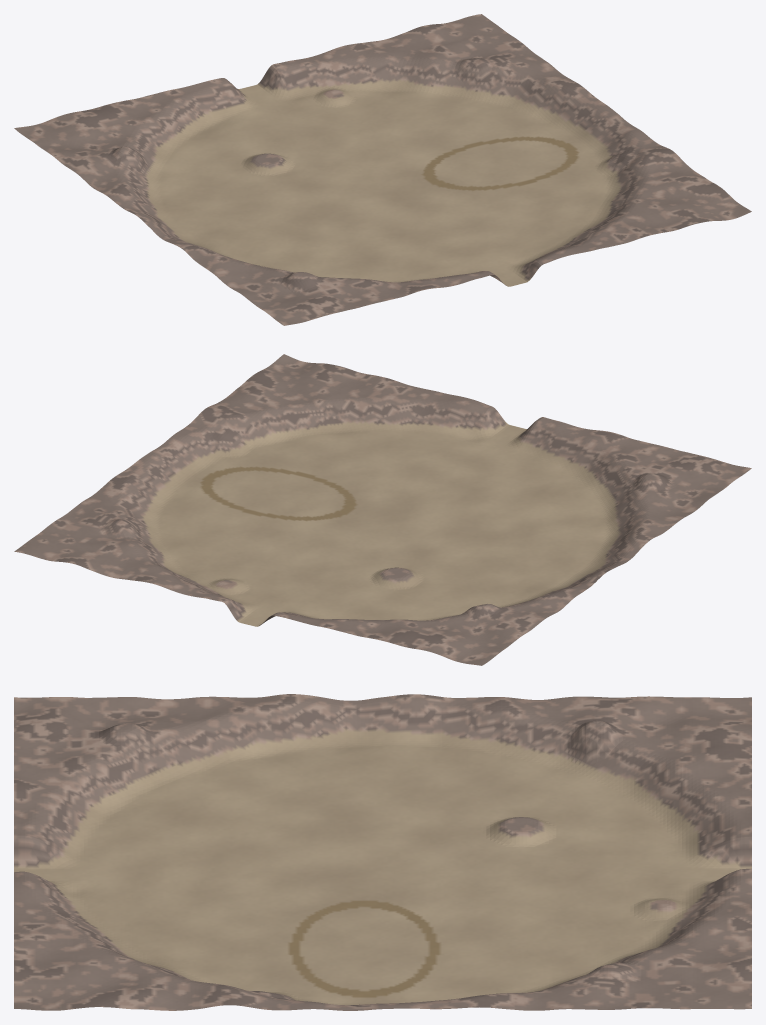
Rendered from terrain.glb.
The picture shows the model from 3 angles, top to bottom: view 1: azimuth 30°, elevation 25°; view 2: azimuth 150°, elevation 25°; view 3: azimuth 270°, elevation 25°; orthographic projection. The views are drawn at different scales.
Parts seen in each view (by area): view 1: Terrain_1_2, Terrain_2_1, Terrain_0_2, Terrain_2_0, Terrain_-2_2, Terrain_-1_2, Terrain_2_-1, Terrain_-3_1, Terrain_2_2, Terrain_-2_1, Terrain_1_1, Terrain_2_-3 (+46 smaller); view 2: Terrain_1_-3, Terrain_2_-2, Terrain_0_-3, Terrain_2_-1, Terrain_-2_-3, Terrain_-1_-3, Terrain_2_0, Terrain_-3_-3, Terrain_2_-3, Terrain_1_-2, Terrain_-3_-2, Terrain_-2_-2 (+46 smaller); view 3: Terrain_-3_1, Terrain_-3_-2, Terrain_-3_-1, Terrain_-3_0, Terrain_-2_2, Terrain_-2_-3, Terrain_-1_-3, Terrain_-1_2, Terrain_-3_2, Terrain_-1_1, Terrain_-2_-2, Terrain_-3_-3 (+48 smaller).
Part boxes in pixels (box(x1,y1,x2,y2)): Terrain_1_2: box(329, 42, 443, 106); Terrain_2_1: box(445, 55, 560, 119); Terrain_0_2: box(256, 59, 370, 123); Terrain_2_0: box(486, 83, 602, 149); Terrain_-2_2: box(109, 95, 226, 156); Terrain_-1_2: box(184, 86, 297, 141); Terrain_2_-1: box(529, 119, 644, 180); Terrain_-3_1: box(78, 146, 195, 199); Terrain_2_2: box(402, 23, 517, 83); Terrain_-2_1: box(152, 142, 268, 190); Terrain_1_1: box(372, 82, 486, 137); Terrain_2_-3: box(613, 176, 729, 227); Terrain_1_-3: box(322, 382, 436, 446); Terrain_2_-2: box(205, 392, 320, 459); Terrain_0_-3: box(394, 400, 509, 463); Terrain_2_-1: box(163, 426, 279, 489); Terrain_-2_-3: box(539, 435, 656, 496); Terrain_-1_-3: box(468, 425, 581, 481); Terrain_2_0: box(121, 459, 236, 520); Terrain_-3_-3: box(613, 453, 729, 504); Terrain_2_-3: box(248, 366, 362, 423); Terrain_1_-2: box(279, 423, 393, 477); Terrain_-3_-2: box(570, 488, 687, 540); Terrain_-2_-2: box(498, 482, 613, 530); Terrain_-3_1: box(497, 704, 615, 777); Terrain_-3_-2: box(150, 704, 268, 778); Terrain_-3_-1: box(268, 703, 382, 777); Terrain_-3_0: box(383, 704, 497, 778); Terrain_-2_2: box(612, 752, 729, 828); Terrain_-2_-3: box(36, 753, 153, 826); Terrain_-1_-3: box(36, 806, 153, 874); Terrain_-1_2: box(612, 806, 729, 874); Terrain_-3_2: box(612, 704, 729, 771); Terrain_-1_1: box(497, 819, 614, 874); Terrain_-2_-2: box(151, 771, 268, 826); Terrain_-3_-3: box(36, 706, 153, 772).
Size of the model in its own units: 800 by 40.32 by 800.
